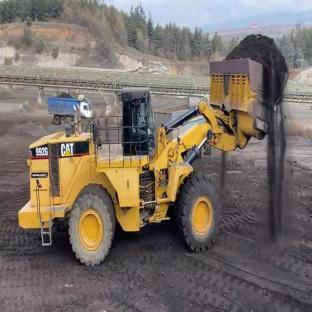ExcavationMachinery: (94, 37, 298, 253)
Vehicle: (38, 87, 94, 127)
